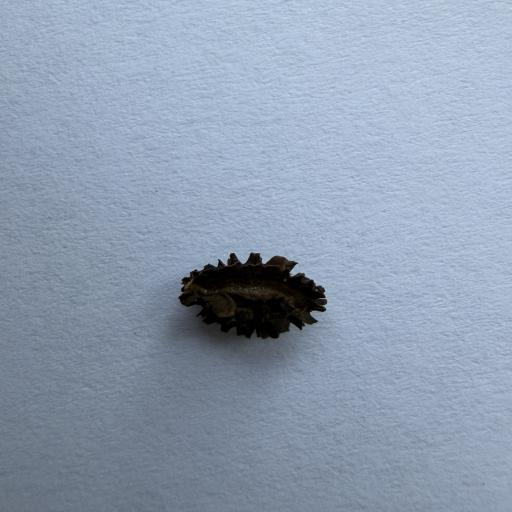papaya_seed: (158, 239, 345, 388)
